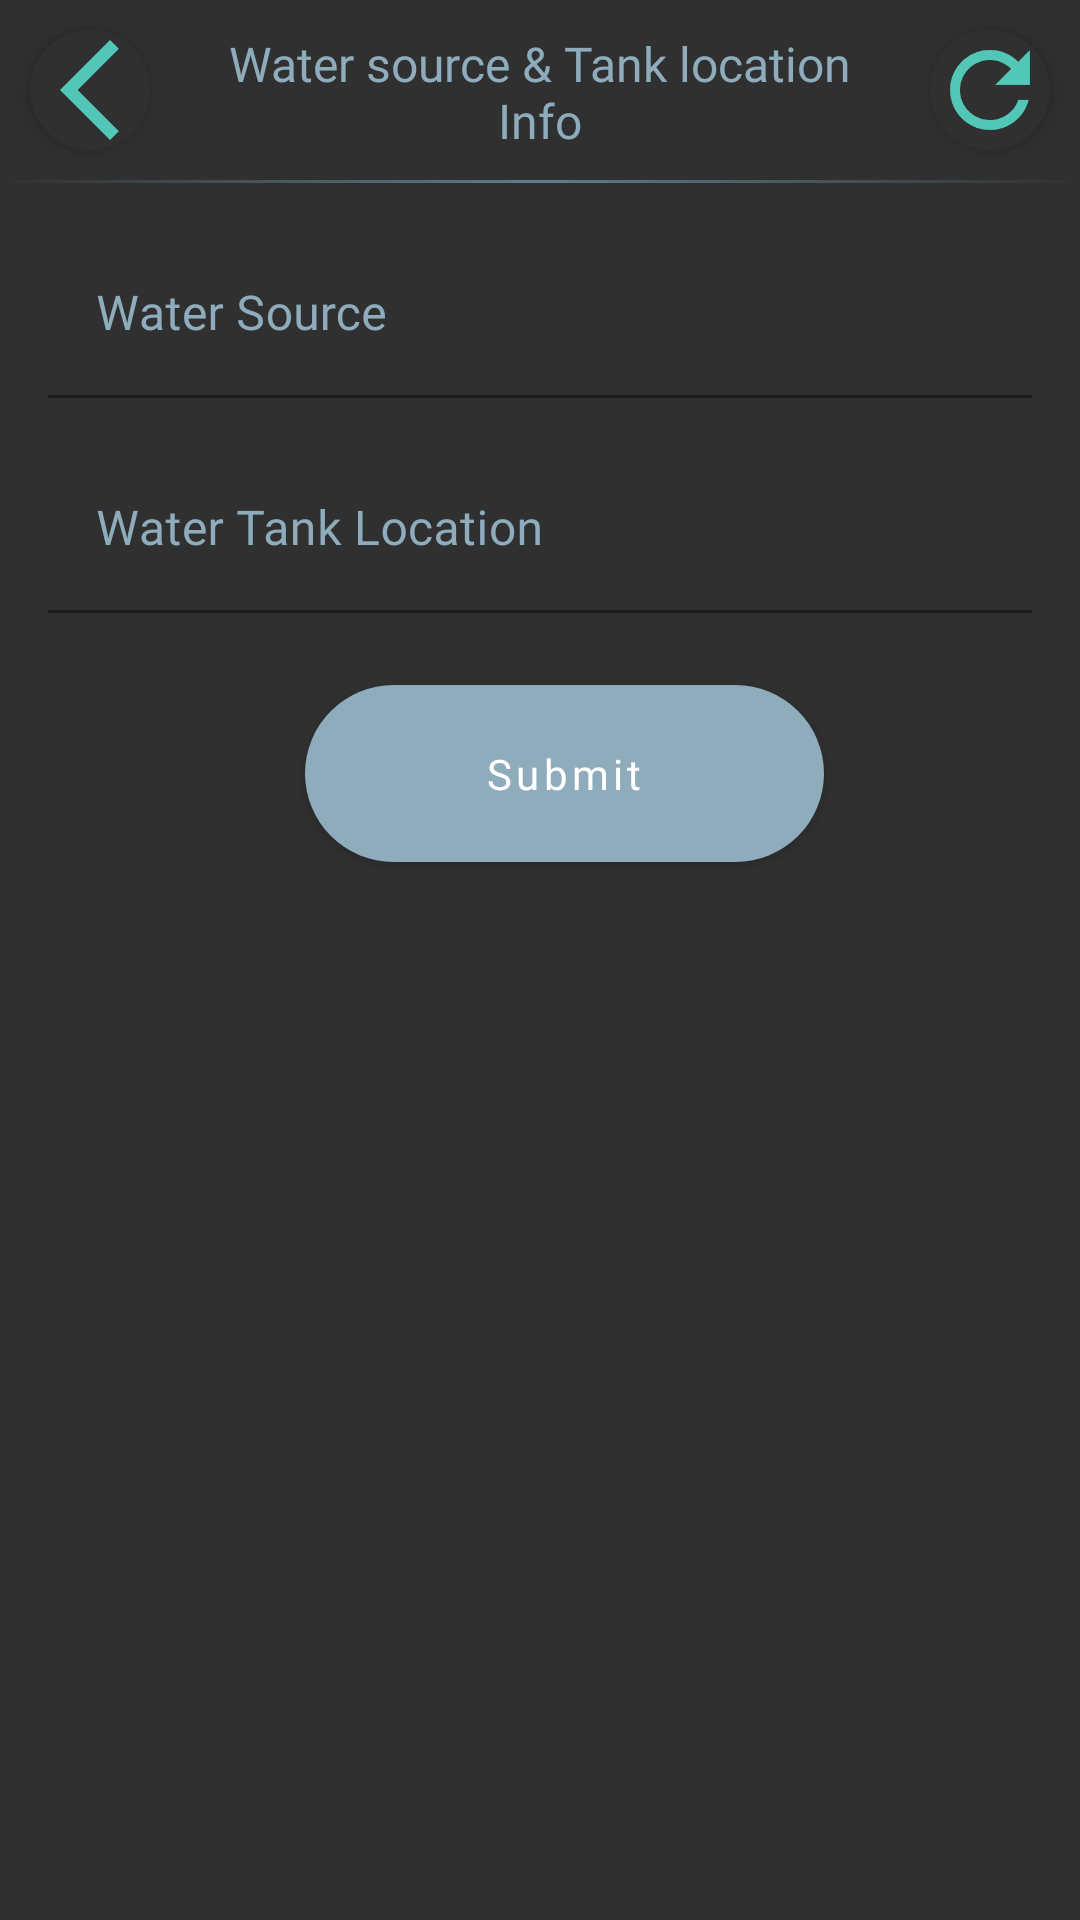

Icon bounding boxes for this 1080px x 1920px phone screenshot, format (x1, y1, x2, y2):
Back: (60, 40, 119, 140)
Reset: (950, 50, 1030, 130)
